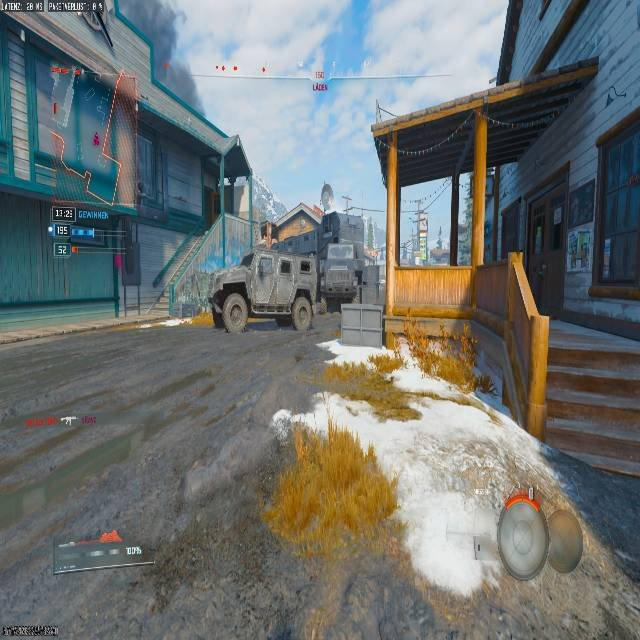head: (495, 501, 548, 576)
player: (291, 285, 315, 334)
